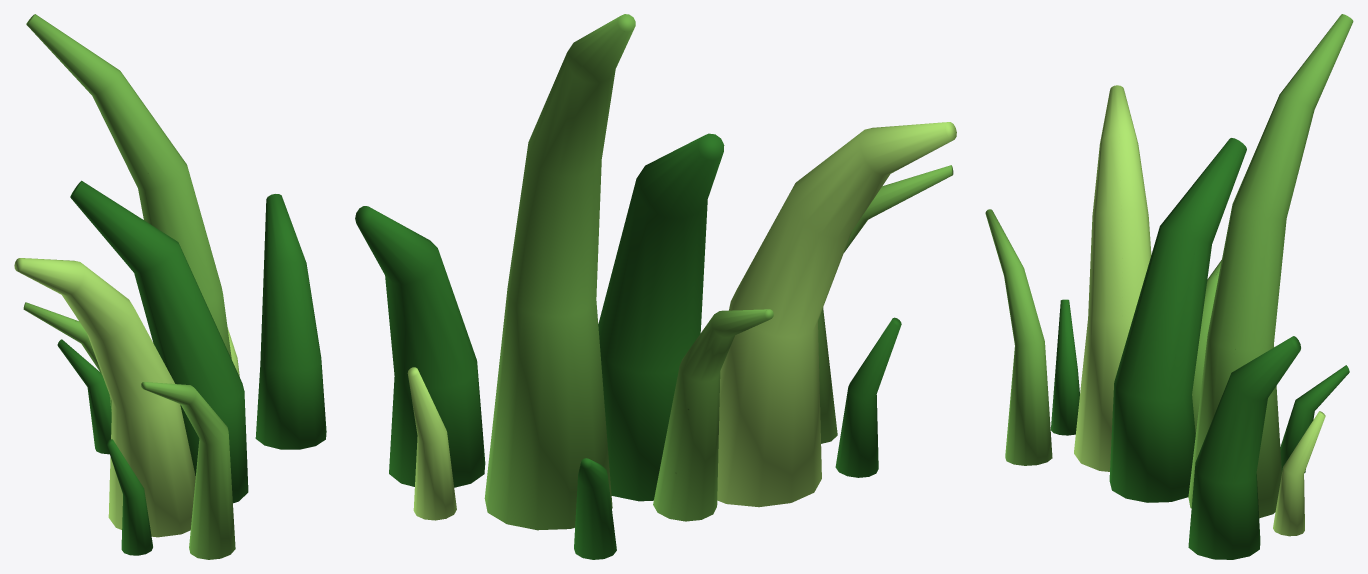
File: grass2.fbx
The picture shows the model from 3 angles, left to right: view 1: azimuth 30°, elevation 25°; view 2: azimuth 150°, elevation 25°; view 3: azimuth 270°, elevation 25°; orthographic projection. The views are drawn at different scales.
Visible parts, largest first — view 1: grass2; view 2: grass2; view 3: grass2.
Part boxes in pixels (x1,y1,x2,y2): grass2: [14, 14, 326, 559]; grass2: [355, 14, 956, 559]; grass2: [985, 14, 1353, 559].
Bounding box in the file's own units: 228 × 260 × 200.
